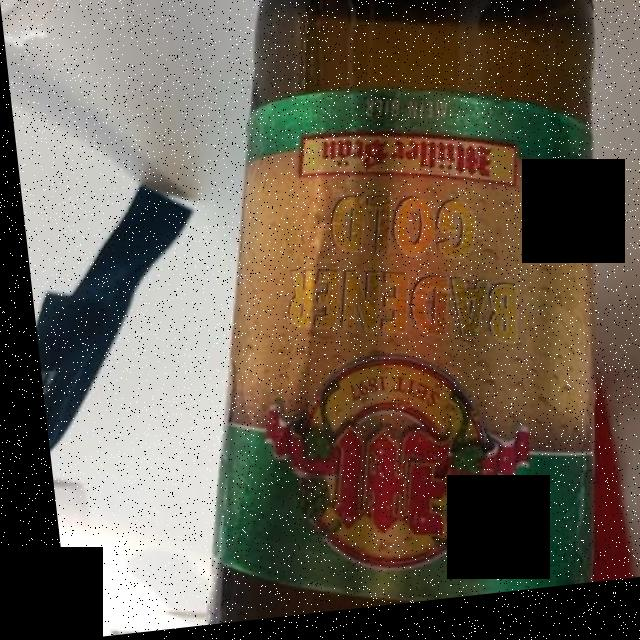beer: (199, 0, 605, 608)
